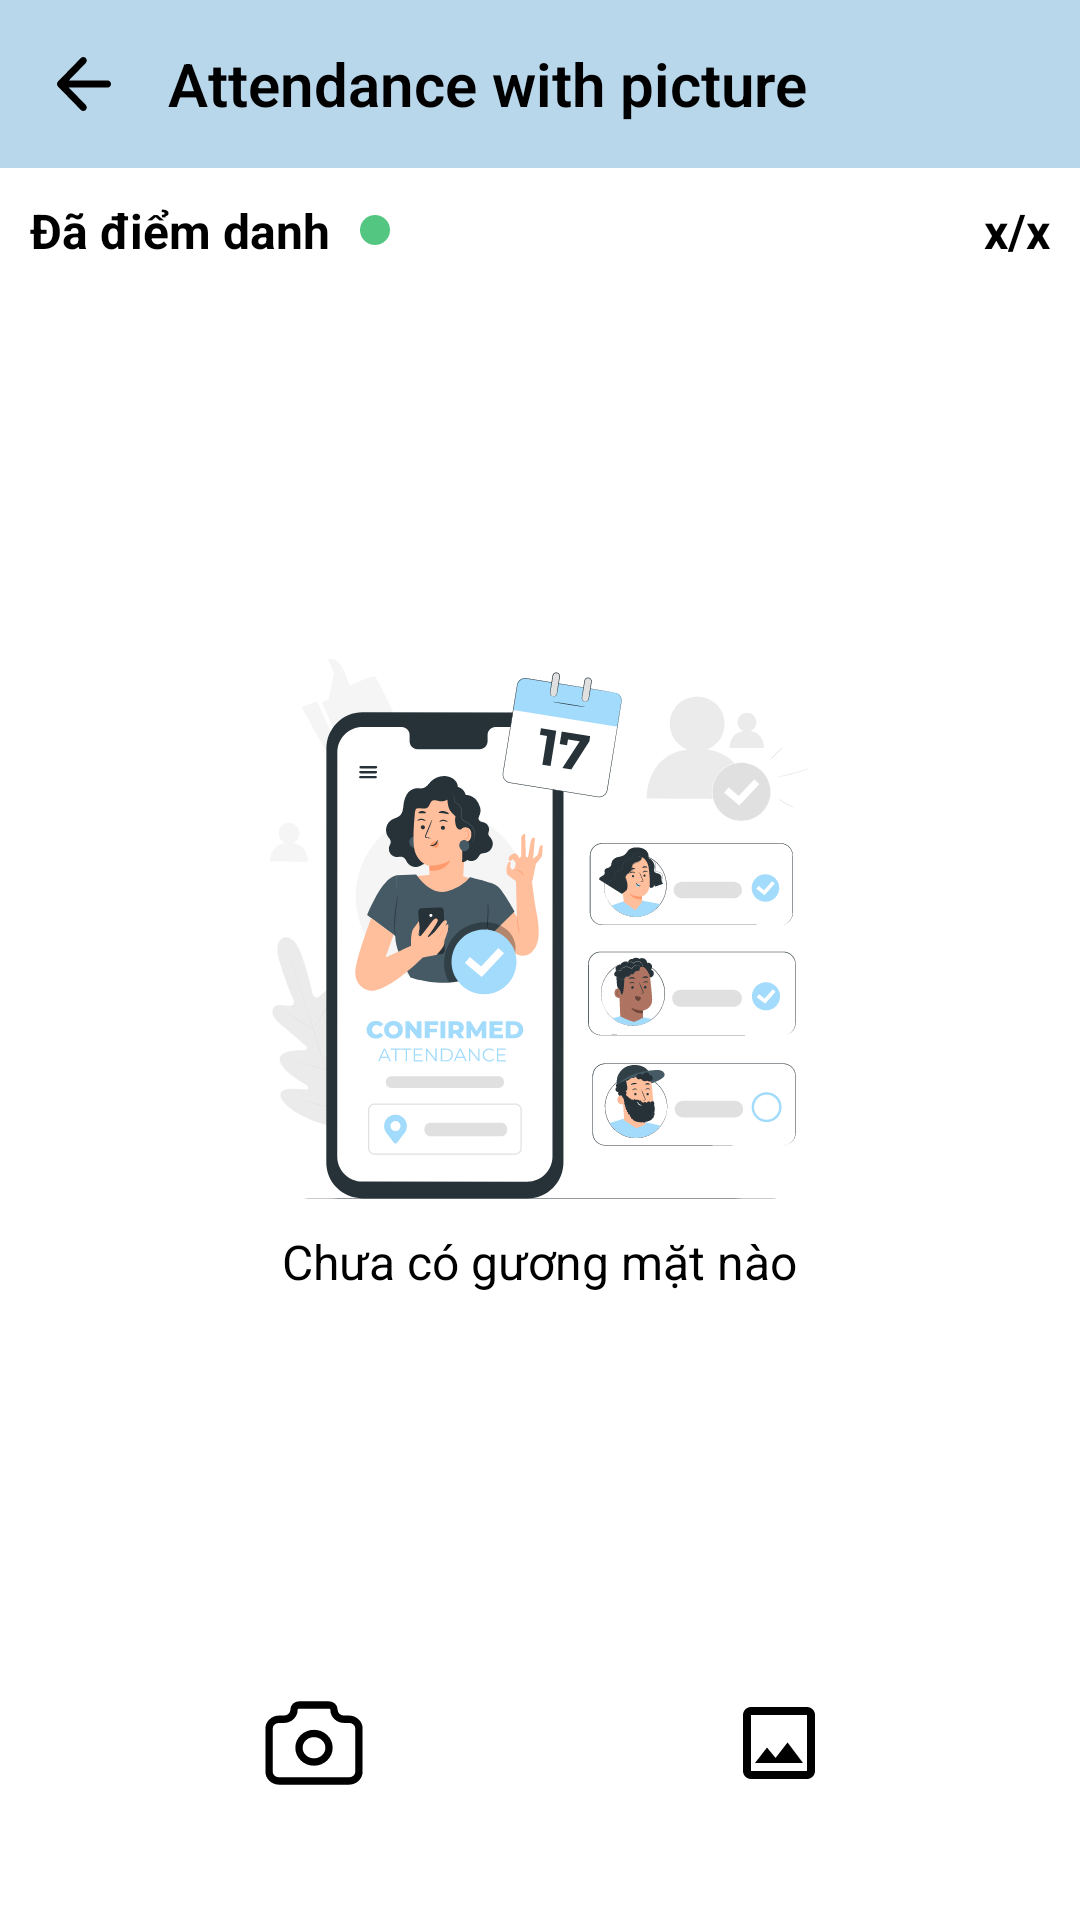

Named icons in this screenshot (1080x1920) and their centers, (x=x, y=y):
back: (x=84, y=84)
camera: (x=314, y=1743)
gallery: (x=779, y=1743)
